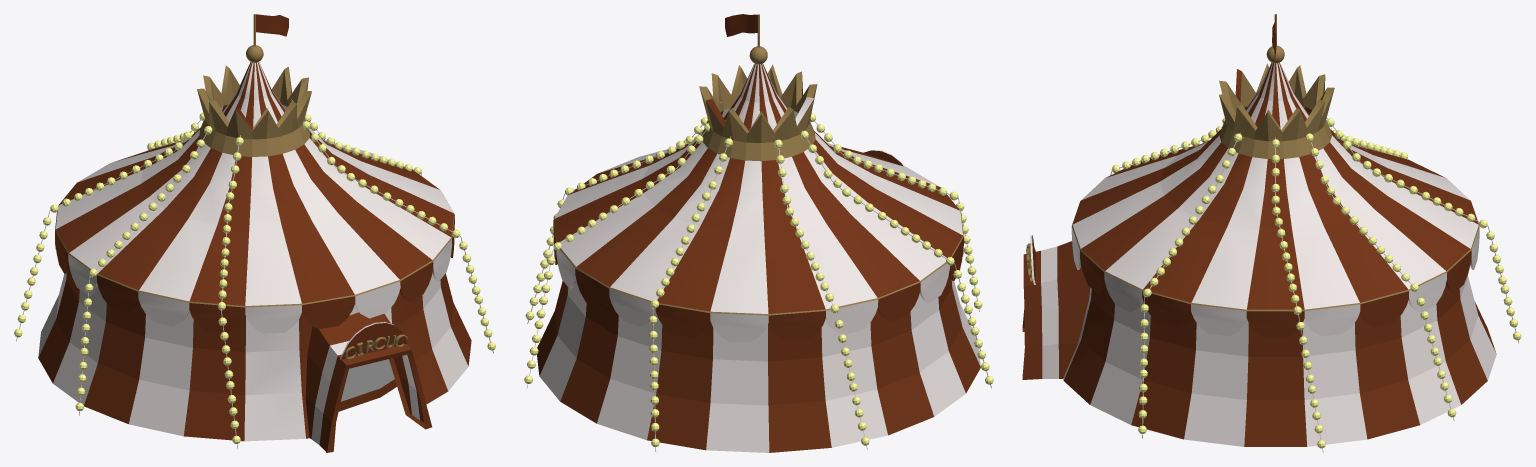
The model's file is CircuisTent.fbx.
3 views of the same model, side by side, from view 1: azimuth 30°, elevation 25°; view 2: azimuth 150°, elevation 25°; view 3: azimuth 270°, elevation 25° (orthographic). The views are drawn at different scales.
Parts seen in each view (by area): view 1: tent, platform, sign_background, flag; view 2: tent, flag; view 3: tent.
Boxes of the visible parts, left/top/right/bottom form: tent: left=38, top=62, right=471, bottom=452; platform: left=338, top=359, right=396, bottom=411; sign_background: left=340, top=322, right=406, bottom=359; flag: left=256, top=14, right=288, bottom=36; tent: left=537, top=63, right=980, bottom=452; flag: left=725, top=14, right=757, bottom=36; tent: left=1022, top=62, right=1496, bottom=446.
Bounding box in the file's own units: 7.35 × 5.77 × 7.67.
